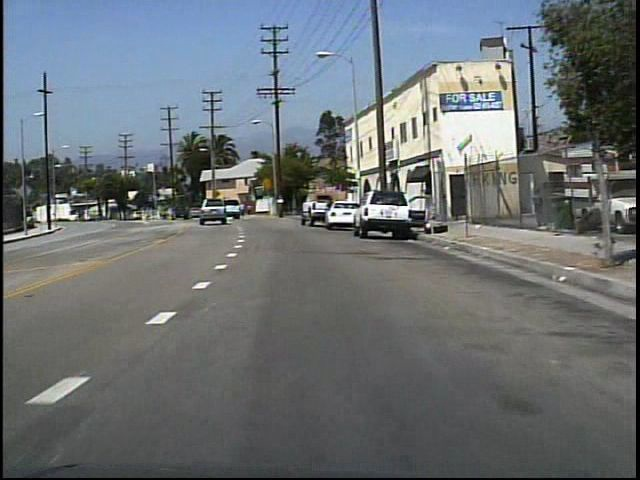person: (245, 201, 255, 219)
